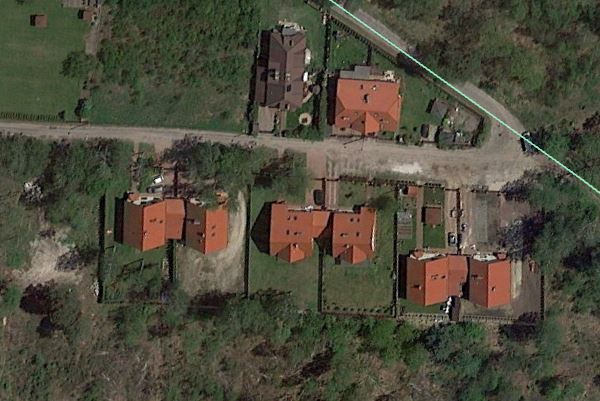family house: (330, 62, 404, 142), (256, 19, 310, 112)
terrace house: (400, 243, 519, 311), (268, 198, 380, 268), (121, 188, 231, 255)
